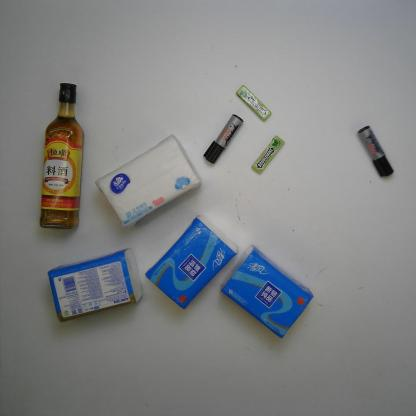Gum: (250, 134, 286, 175), (235, 84, 272, 122)
Seasoner: (38, 82, 86, 232)
Stationery: (202, 113, 244, 166), (356, 124, 394, 180)
Tissue: (94, 132, 206, 232), (218, 243, 316, 341), (142, 214, 240, 311), (44, 245, 144, 323)
